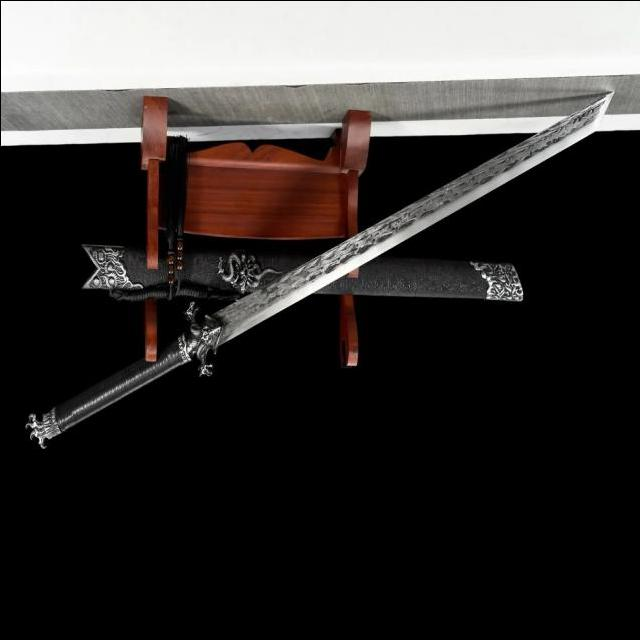sword: (23, 88, 616, 454)
